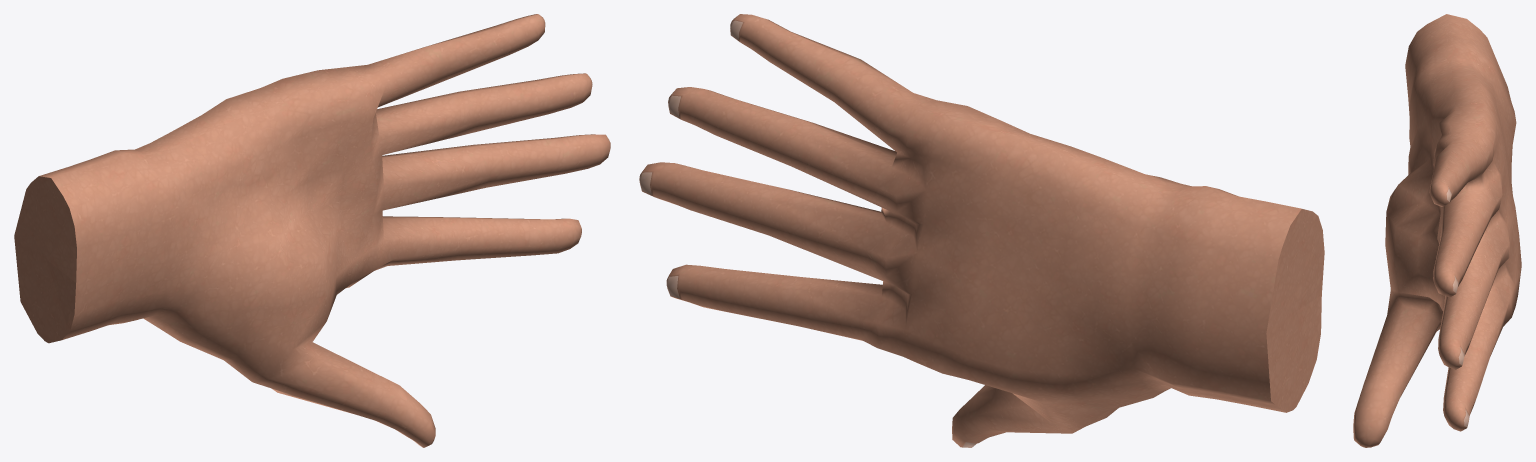
The model's file is HandFlip.fbx.
The picture shows the model from 3 angles, left to right: view 1: azimuth 30°, elevation 25°; view 2: azimuth 150°, elevation 25°; view 3: azimuth 270°, elevation 25°; orthographic projection. The views are drawn at different scales.
Visible parts, largest first — view 1: Hnad; view 2: Hnad; view 3: Hnad.
Part boxes in pixels (x1,y1,x2,y2): Hnad: [14, 14, 610, 447]; Hnad: [639, 14, 1324, 447]; Hnad: [1353, 14, 1521, 447].
Size of the model in its own units: 414 by 254 by 118.
